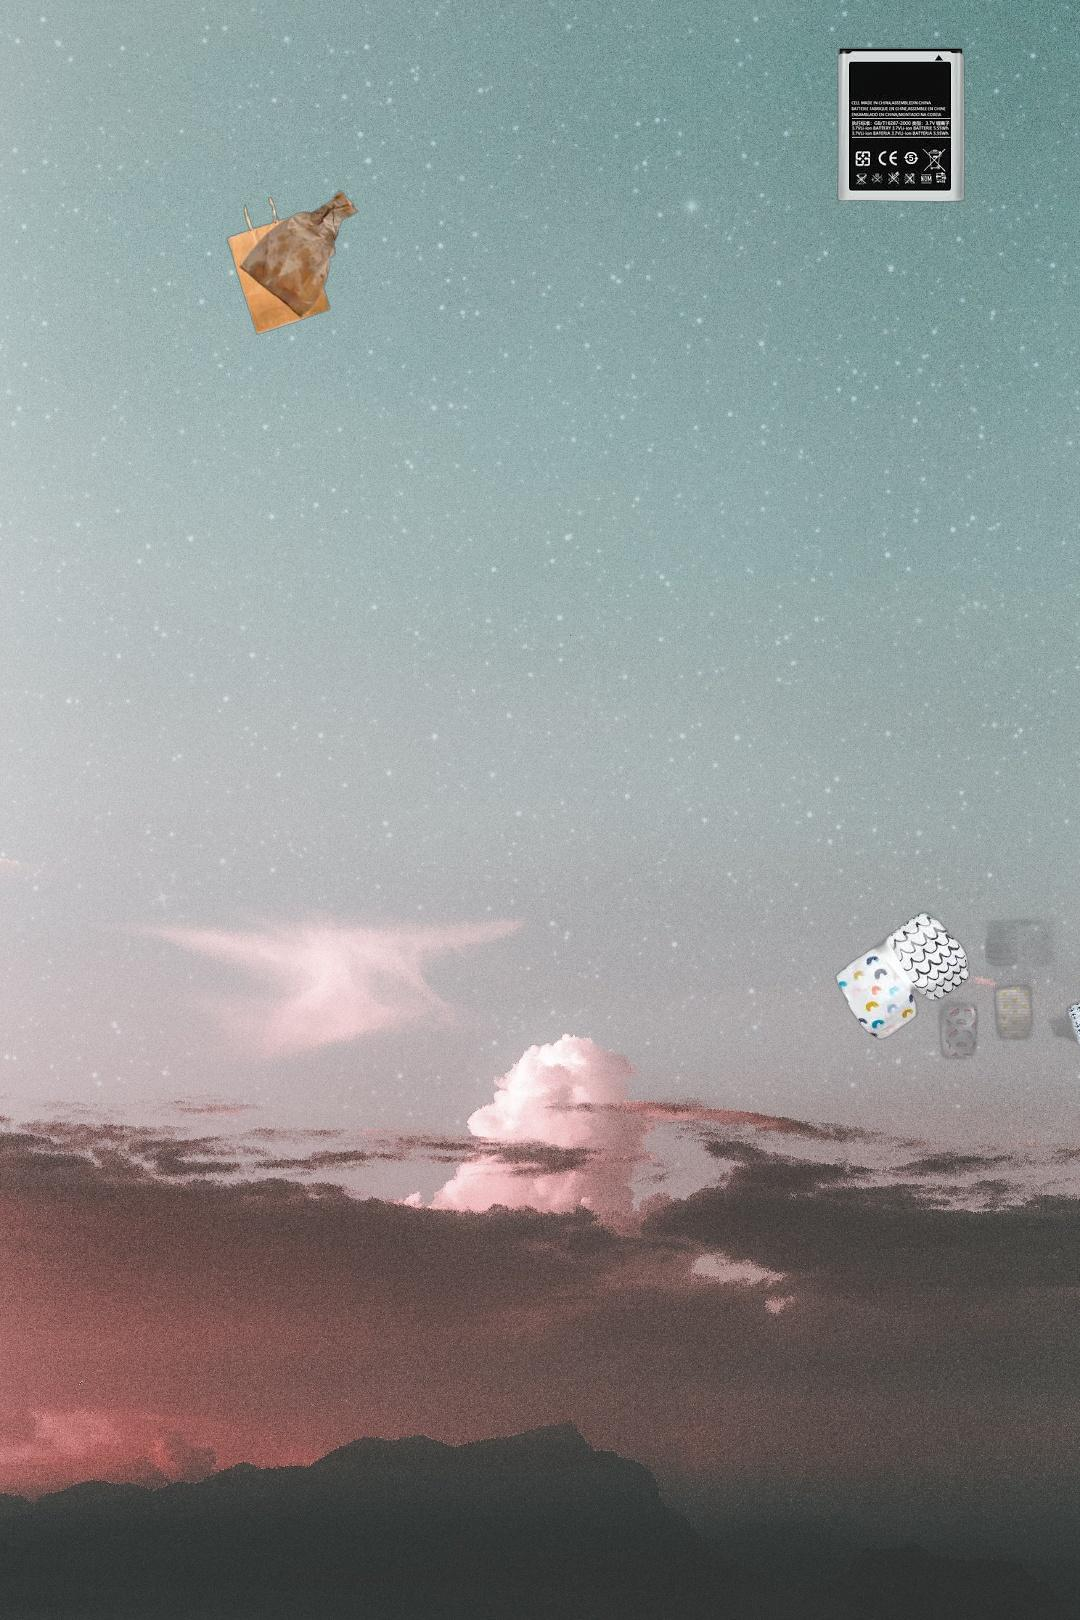battery: (835, 45, 967, 205)
paper-bag: (225, 188, 359, 336)
trash: (834, 905, 1080, 1064)
